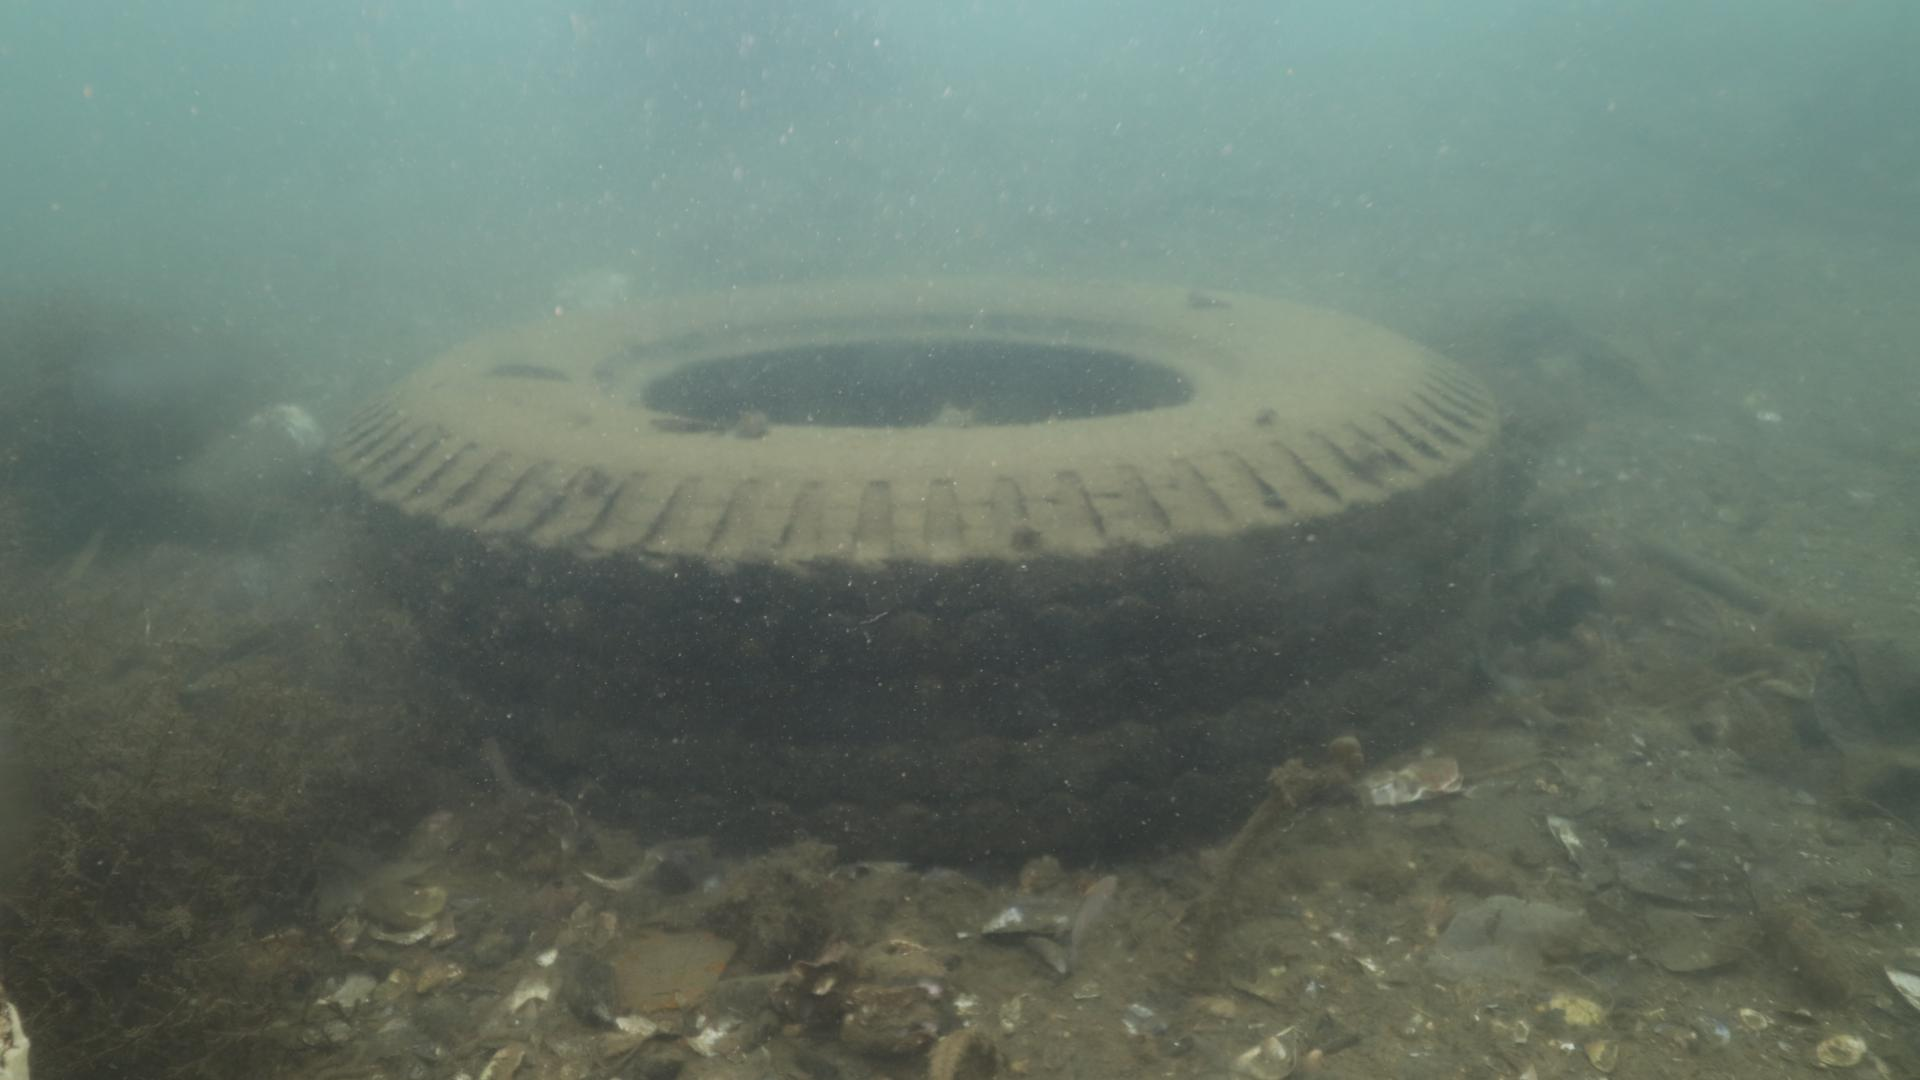tire: (340, 264, 1509, 865)
